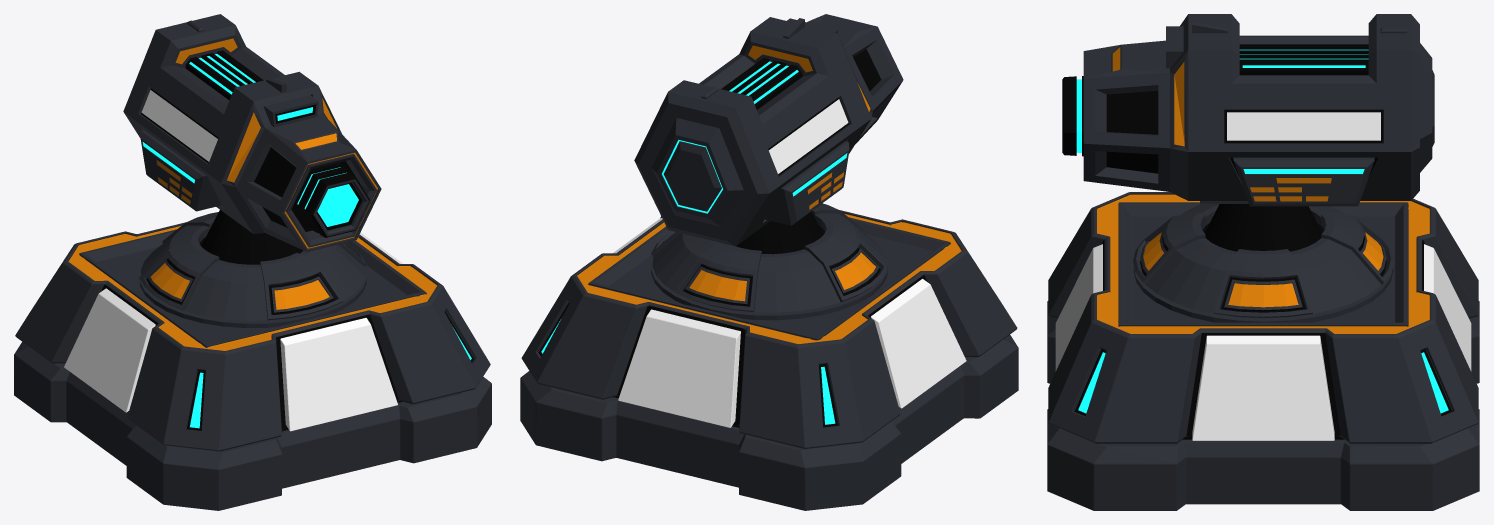
The model's file is SM_Turret_SiegeCannon.fbx.
3 renders of one model, left to right at view 1: azimuth 30°, elevation 25°; view 2: azimuth 150°, elevation 25°; view 3: azimuth 270°, elevation 25°, orthographic. The views are drawn at different scales.
Parts seen in each view (by area): view 1: SM_Turret_SiegeCannon_Base, SM_Turret_SiegeCannon_Weapon; view 2: SM_Turret_SiegeCannon_Base, SM_Turret_SiegeCannon_Weapon; view 3: SM_Turret_SiegeCannon_Base, SM_Turret_SiegeCannon_Weapon.
Part boxes in pixels (x1,y1,x2,y2): SM_Turret_SiegeCannon_Base: (14,210,491,510); SM_Turret_SiegeCannon_Weapon: (123,14,381,251); SM_Turret_SiegeCannon_Base: (520,203,1018,510); SM_Turret_SiegeCannon_Weapon: (634,14,903,246); SM_Turret_SiegeCannon_Base: (1047,192,1479,510); SM_Turret_SiegeCannon_Weapon: (1062,14,1434,206).
Bounding box in the file's own units: 100 × 101 × 100.
